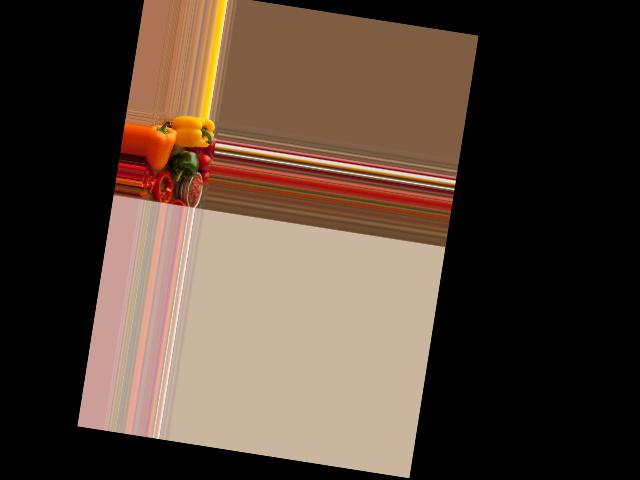bell_pepper: (175, 114, 215, 151)
